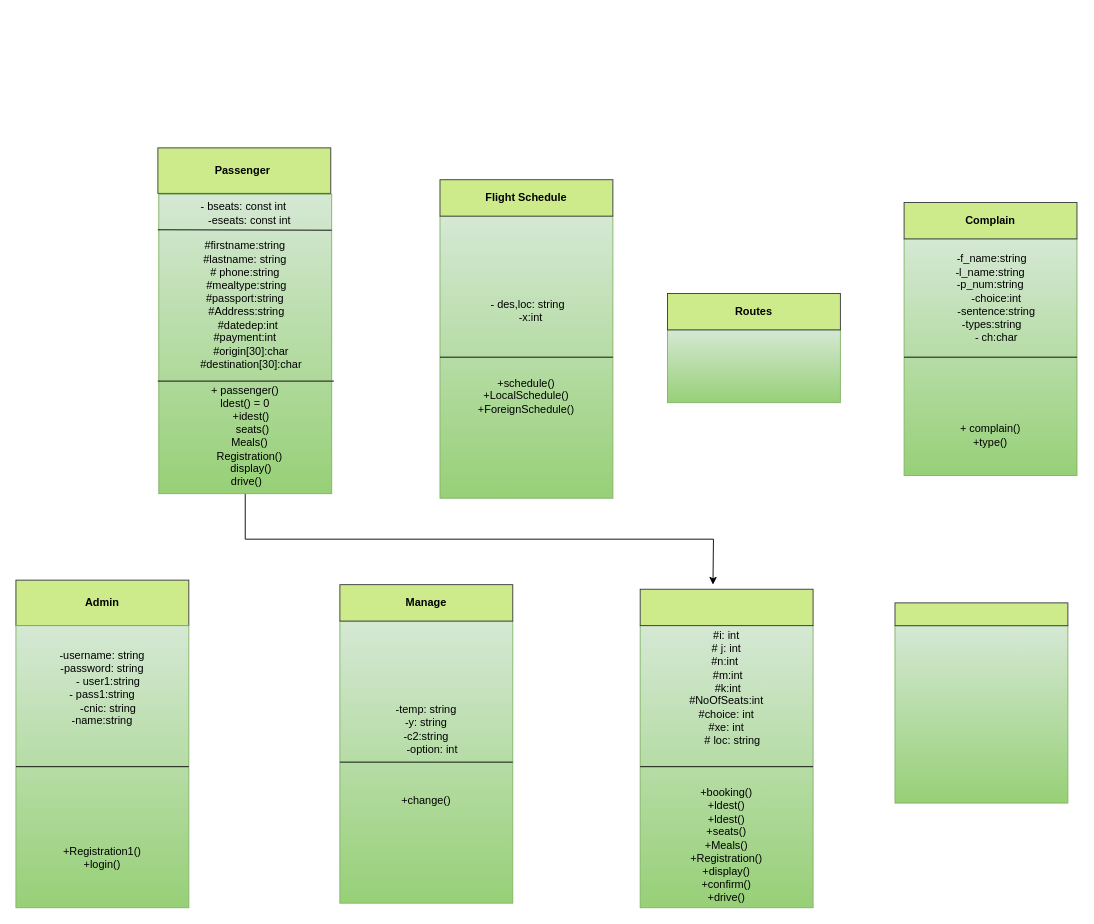
This 1094x924 diagram has some shape labels left out. Here are the shapes that lost their labels. From the top down, the centre of each, then its label:
At (753,366): "+print()".
At (726,607): "Booking".
At (981,614): "About".
At (981,714): "+Aboutus()".
